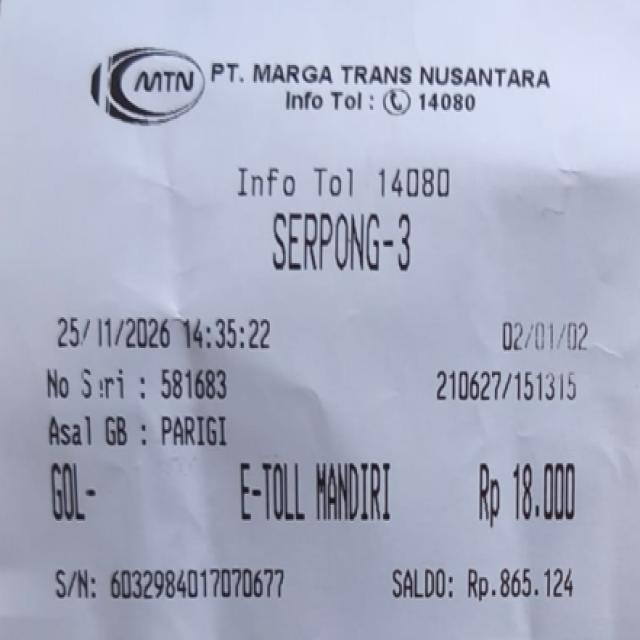date: (51, 299, 294, 356)
store: (197, 53, 576, 130)
total: (460, 451, 586, 534)
